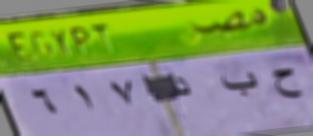1: (67, 83, 100, 115)
6: (30, 85, 61, 122)
7: (107, 73, 139, 116)
7aa: (268, 63, 307, 103)
baa: (217, 65, 262, 105)
daal: (175, 75, 196, 101)
